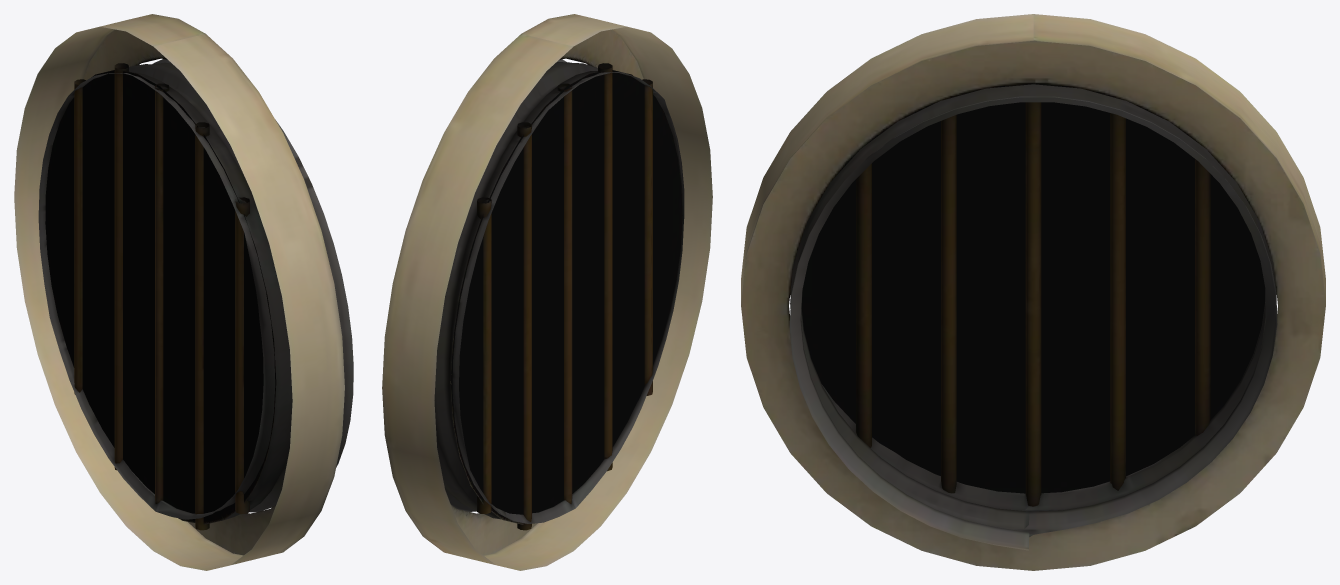
3 renders of one model, left to right at view 1: azimuth 30°, elevation 25°; view 2: azimuth 150°, elevation 25°; view 3: azimuth 270°, elevation 25°, orthographic. The views are drawn at different scales.
Visible parts, largest first — view 1: body0_model0_lod0_mesh0; view 2: body0_model0_lod0_mesh0; view 3: body0_model0_lod0_mesh0.
Part boxes in pixels (<box>): body0_model0_lod0_mesh0: <box>14,14,353,570</box>; body0_model0_lod0_mesh0: <box>382,14,712,570</box>; body0_model0_lod0_mesh0: <box>741,14,1325,570</box>.
Size of the model in its own units: 10.69 by 55.23 by 55.23.
Materials: 1 (1 with a texture image).
